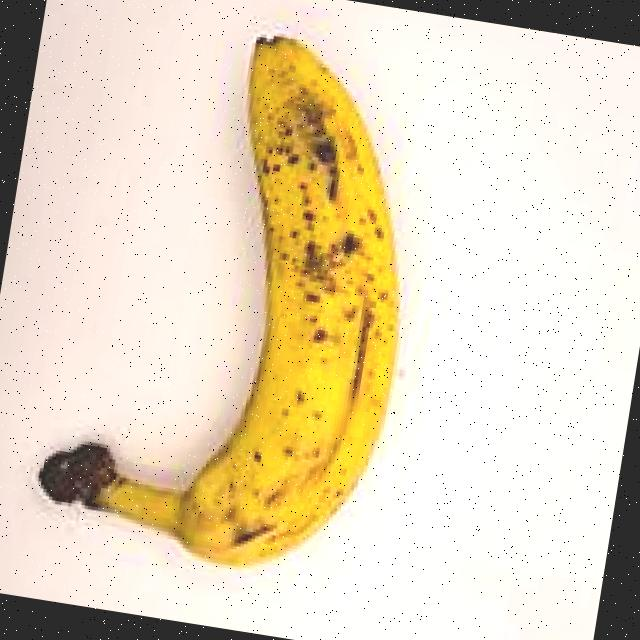Overripe: (0, 0, 527, 621)
